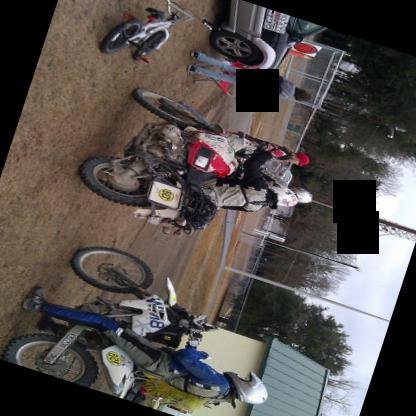backpack: (141, 379, 213, 414)
